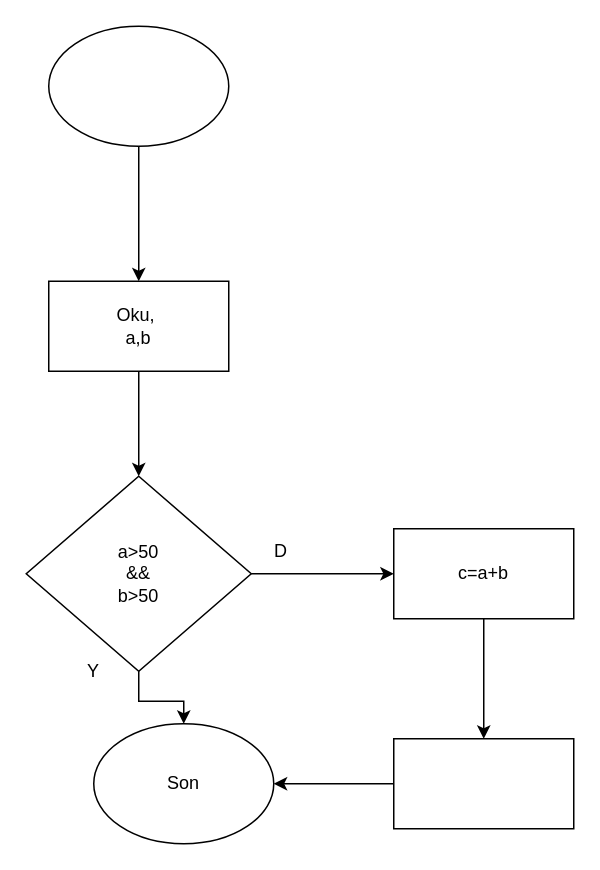
The diagram is 600 pixels wide and 870 high, and some of its shapes have lost their labels. Here are the shapes that lost their labels. From the top down, the box of each, then its label:
(47, 25, 229, 146): Başla
(392, 737, 574, 829): Yaz, c
